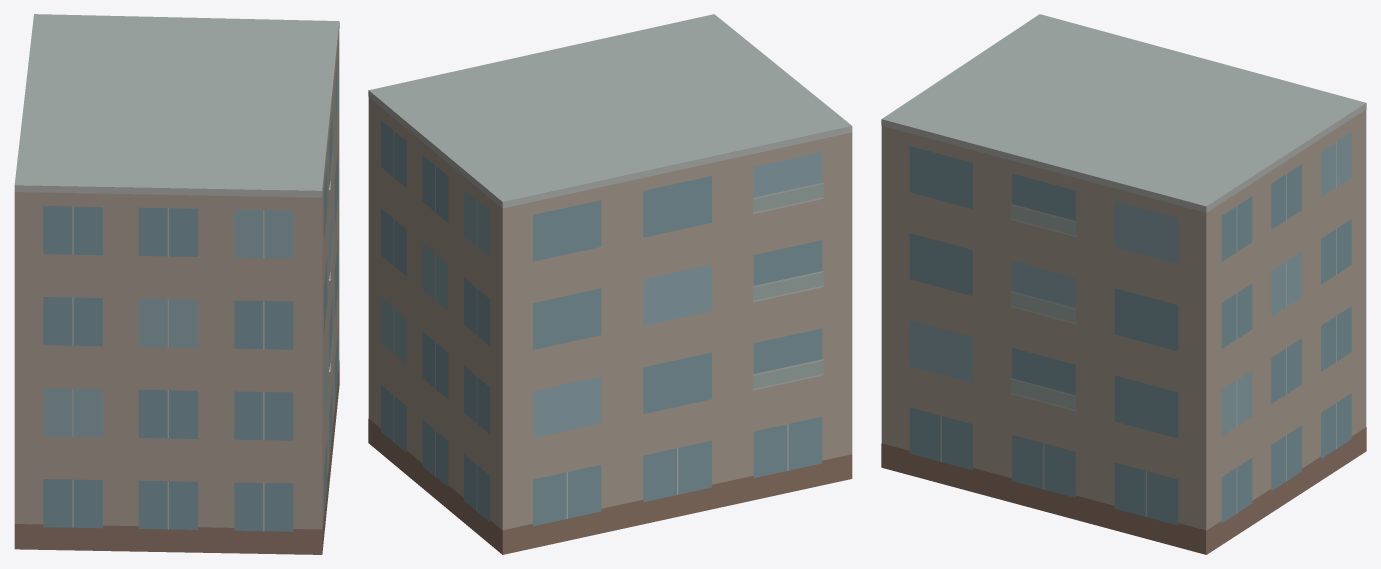
File: survey-upis-32731918.glb
The picture shows the model from 3 angles, left to right: view 1: azimuth 30°, elevation 25°; view 2: azimuth 150°, elevation 25°; view 3: azimuth 270°, elevation 25°; orthographic projection. The views are drawn at different scales.
Visible parts, largest first — view 1: survey-upis-32731918.tmp; view 2: survey-upis-32731918.tmp; view 3: survey-upis-32731918.tmp.
Part boxes in pixels (x1,y1,x2,y2): survey-upis-32731918.tmp: (14,14,339,554); survey-upis-32731918.tmp: (368,14,852,554); survey-upis-32731918.tmp: (881,14,1366,554).
Size of the model in its own units: 15.64 by 13.2 by 16.66.
